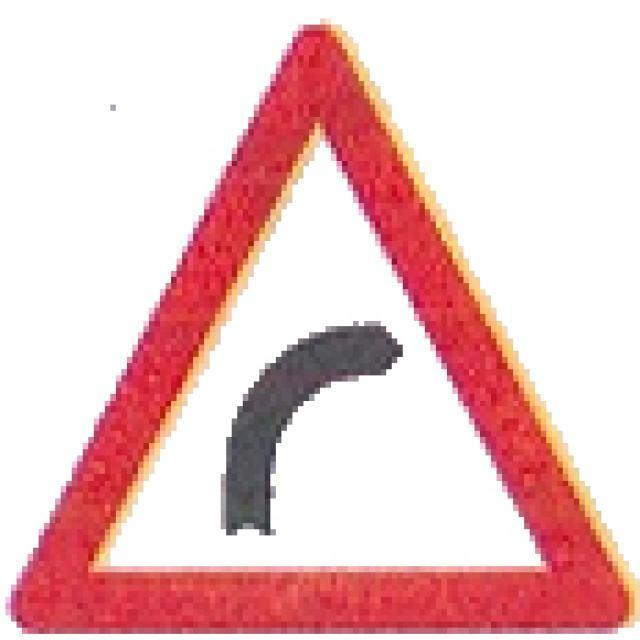right hand curve: (14, 20, 624, 623)
